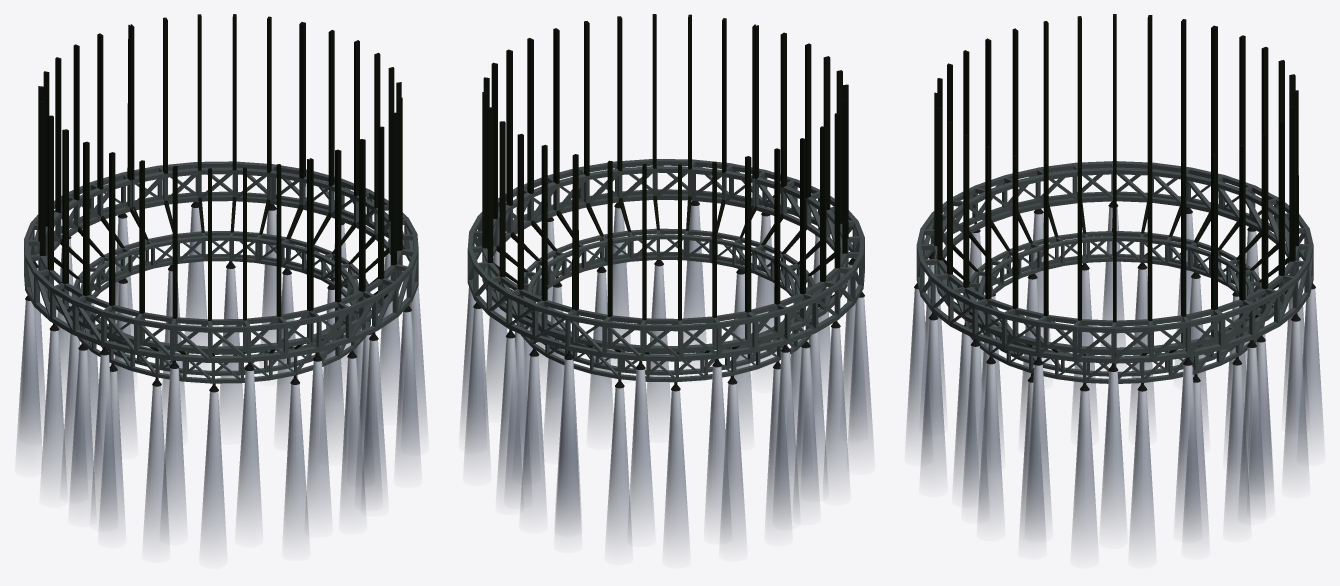
File: ceilingLight.glb
3 views of the same model, side by side, from view 1: azimuth 30°, elevation 25°; view 2: azimuth 150°, elevation 25°; view 3: azimuth 270°, elevation 25° (orthographic).
Parts seen in each view (by area): view 1: Cylinder.004, Cylinder.018, Cylinder.024, Cylinder.016, Cylinder.015, Cylinder.003, Cylinder.012, Cylinder.014, Cylinder.006, Cylinder.005, Cylinder.013, Cylinder.019 (+7 smaller); view 2: Cylinder.004, Cylinder.009, Cylinder.008, Cylinder.007, Cylinder.006, Cylinder.013, Cylinder.012, Cylinder.015, Cylinder.005, Cylinder.014, Cylinder.003, Cylinder.011 (+7 smaller); view 3: Cylinder.004, Cylinder.012, Cylinder.003, Cylinder.013, Cylinder.006, Cylinder.014, Cylinder.005, Cylinder.018, Cylinder.008, Cylinder.024, Cylinder.009, Cylinder.015 (+6 smaller).
Boxes of the visible parts, <box> form: Cylinder.004: <box>24,14,418,383</box>; Cylinder.018: <box>236,332,386,525</box>; Cylinder.024: <box>201,350,365,546</box>; Cylinder.016: <box>161,305,420,523</box>; Cylinder.015: <box>143,333,380,541</box>; Cylinder.003: <box>70,278,344,505</box>; Cylinder.012: <box>41,240,400,485</box>; Cylinder.014: <box>91,286,427,509</box>; Cylinder.006: <box>62,268,298,480</box>; Cylinder.005: <box>16,221,350,455</box>; Cylinder.013: <box>100,309,364,525</box>; Cylinder.019: <box>306,352,330,515</box>; Cylinder.004: <box>467,14,864,382</box>; Cylinder.009: <box>497,329,653,525</box>; Cylinder.008: <box>521,348,688,546</box>; Cylinder.007: <box>464,302,730,522</box>; Cylinder.006: <box>506,332,745,539</box>; Cylinder.013: <box>544,276,818,503</box>; Cylinder.012: <box>486,251,848,483</box>; Cylinder.015: <box>588,266,826,479</box>; Cylinder.005: <box>460,279,798,507</box>; Cylinder.014: <box>537,217,873,452</box>; Cylinder.003: <box>520,305,790,523</box>; Cylinder.011: <box>555,351,580,515</box>; Cylinder.004: <box>916,14,1313,383</box>; Cylinder.012: <box>1100,201,1125,527</box>; Cylinder.003: <box>1129,262,1154,546</box>; Cylinder.013: <box>1072,263,1097,546</box>; Cylinder.006: <box>1183,272,1208,536</box>; Cylinder.014: <box>1026,208,1051,520</box>; Cylinder.005: <box>1175,207,1200,520</box>; Cylinder.018: <box>921,250,946,475</box>; Cylinder.008: <box>1224,292,1249,520</box>; Cylinder.024: <box>978,286,1003,519</box>; Cylinder.009: <box>1283,255,1308,476</box>; Cylinder.015: <box>1020,268,1044,536</box>.
Bounding box in the file's own units: 13.34 × 14.51 × 13.39.
4 materials, 4 textured.
